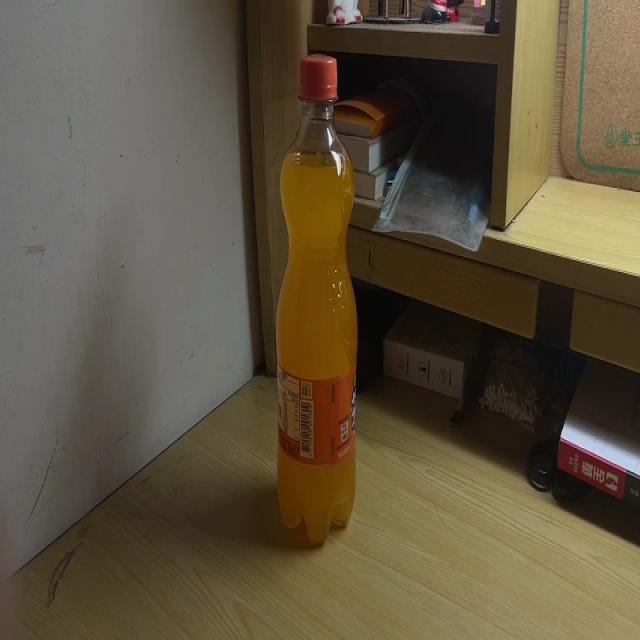Fanta: (274, 52, 358, 546)
